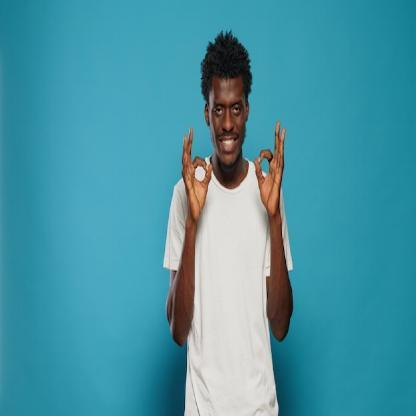ok: (250, 116, 286, 224), (180, 125, 216, 227)
